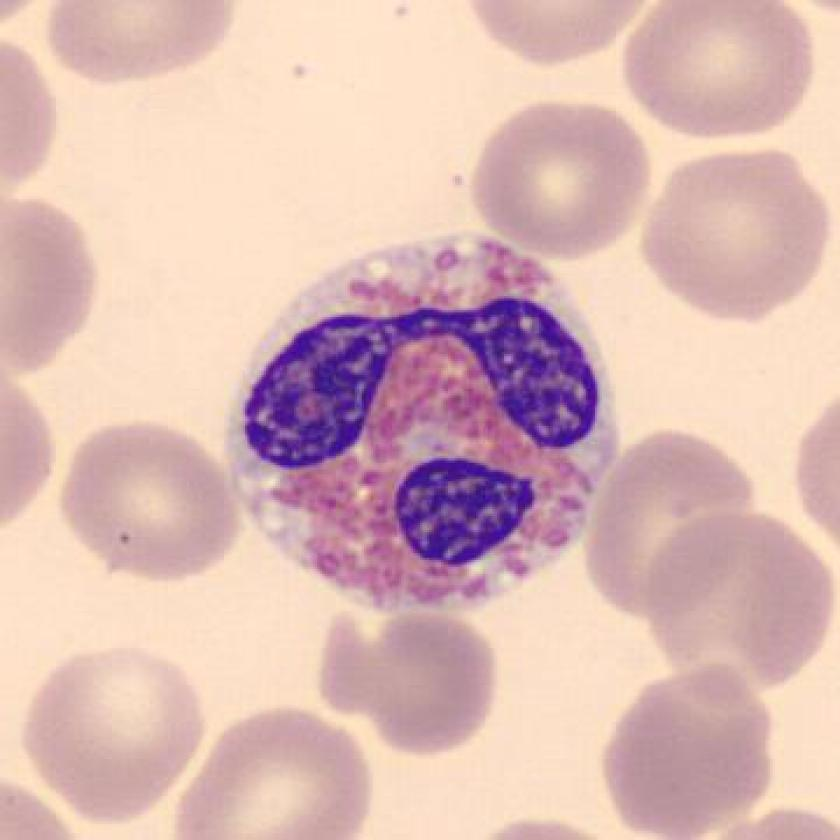eosinophil: (218, 228, 631, 626)
